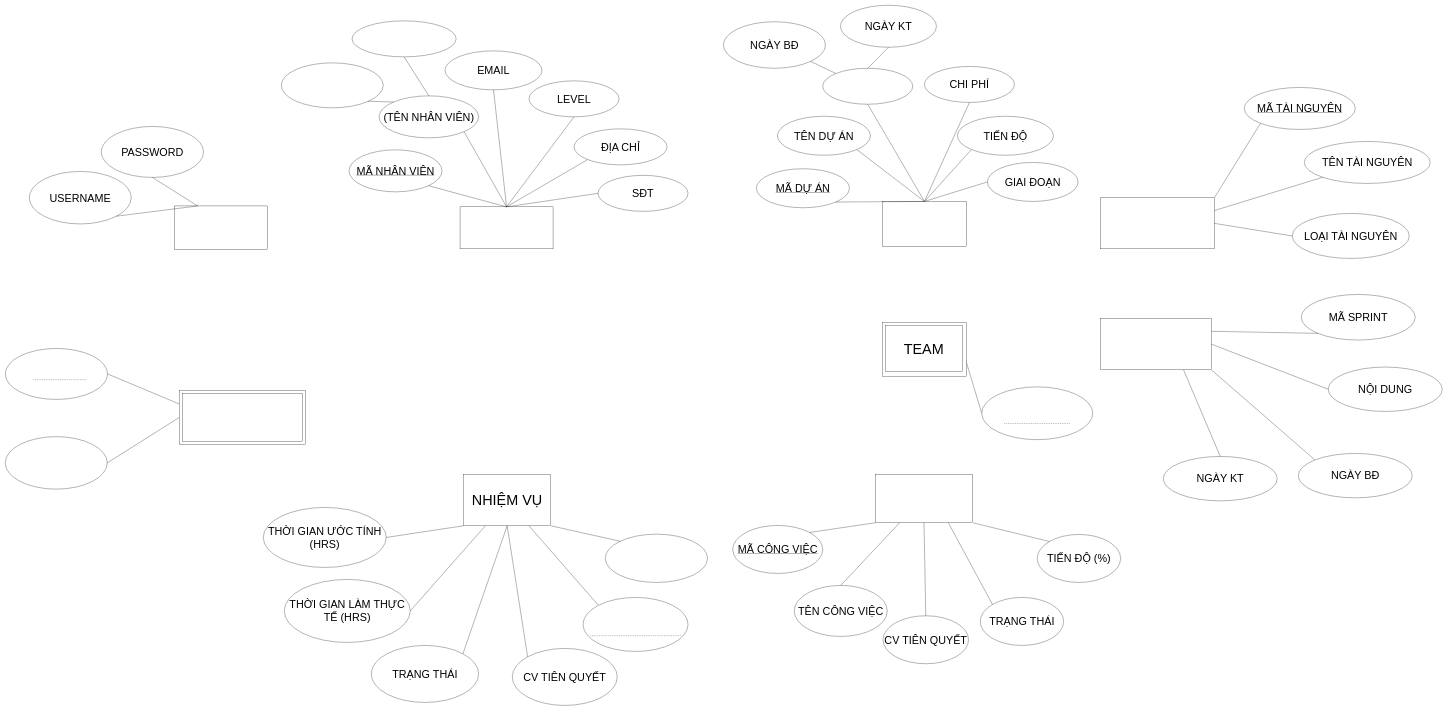
Image size: 1448x711. Some labels were removed from this diagram. Here are the shapes that lost their labels. From the top down, the centre of each, then its label:
At pixel 404 39: "TÊN".
At pixel 332 85: "HỌ VÀ TÊN ĐỆM".
At pixel 867 86: "(THỜI GIAN)".
At pixel 220 227: "TÀI KHOẢN".
At pixel 506 228: "NHÂN VIÊN".
At pixel 924 223: "DỰ ÁN".
At pixel 1157 223: "TÀI NGUYÊN".
At pixel 1155 344: "SPRINT".
At pixel 56 373: "NGÀY".
At pixel 242 417: "ĐIỂM DANH NGÀY NGHỈ".
At pixel 1037 413: "TÊN NHÓM".
At pixel 56 462: "NỘI DUNG XIN NGHỈ".
At pixel 924 498: "CÔNG VIỆC".
At pixel 656 558: "MA NHIEM VU".
At pixel 635 624: "TÊN NHIỆM VỤ".
